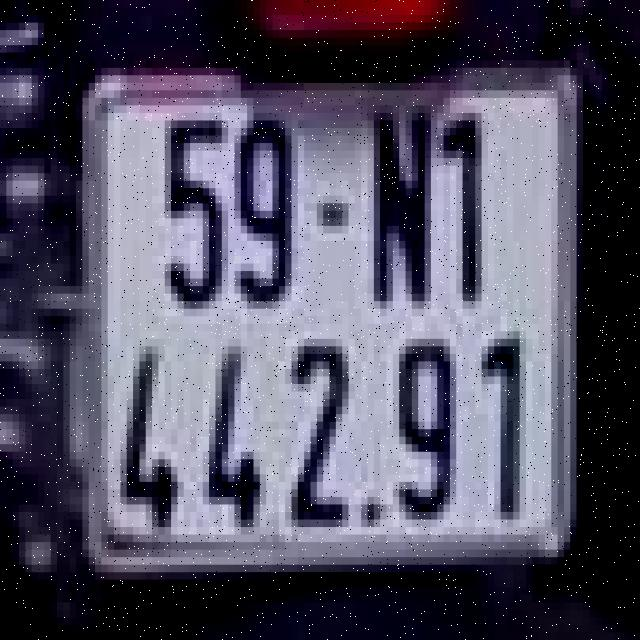1: (440, 117, 491, 305), (482, 332, 532, 520)
2: (276, 335, 352, 538)
4: (111, 331, 180, 535), (200, 331, 263, 535)
5: (152, 109, 228, 313)
9: (235, 116, 304, 312), (393, 331, 462, 527)
N: (364, 98, 434, 316)
